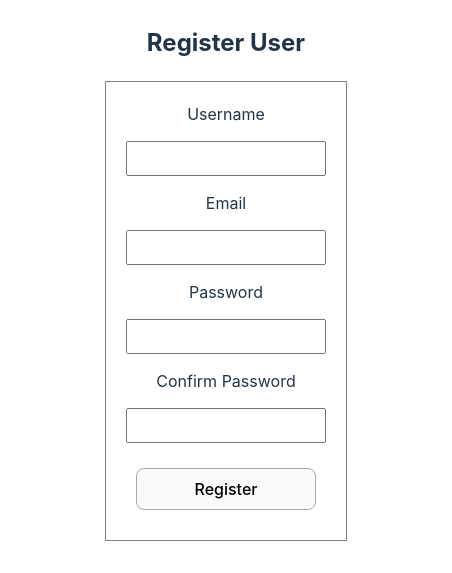
Test case: Register Component › shows error when username or email is already taken
Type "testuser" into the field labelled "Username" at (226, 159), box [126,141,326,176]
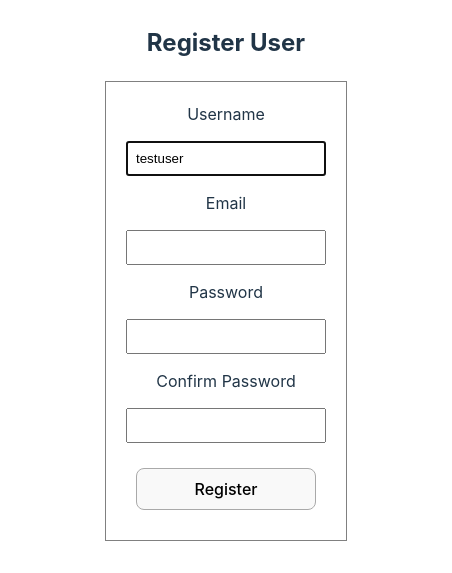
Type "test@example.com" into the field labelled "Email" at (226, 248), box [126,230,326,265]
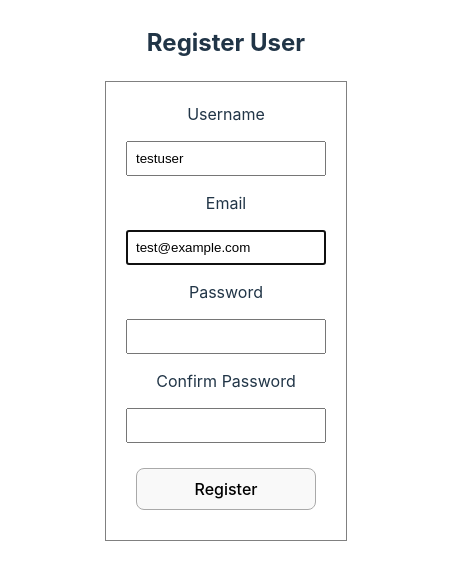
Type "password123" into the password field labelled "Password" at (226, 337), box [126,319,326,354]
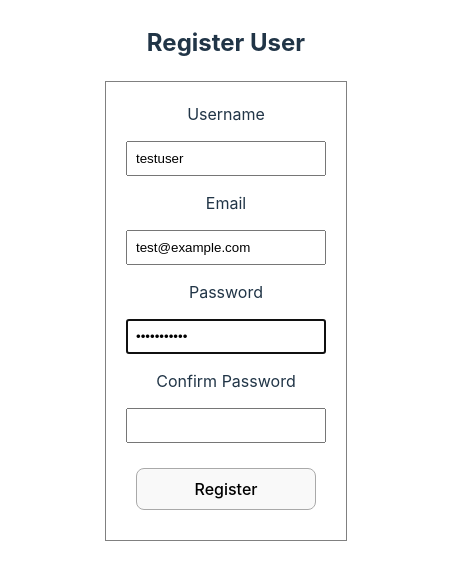
Type "password123" into the password field labelled "Confirm Password" at (226, 426), box [126,408,326,443]
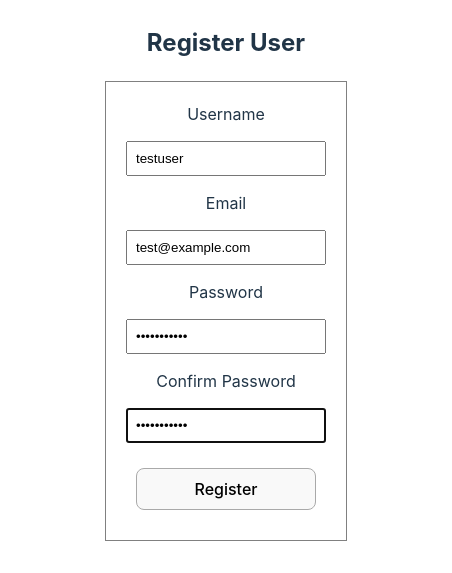
Click the button "Register" at (226, 489), box [136,468,316,510]
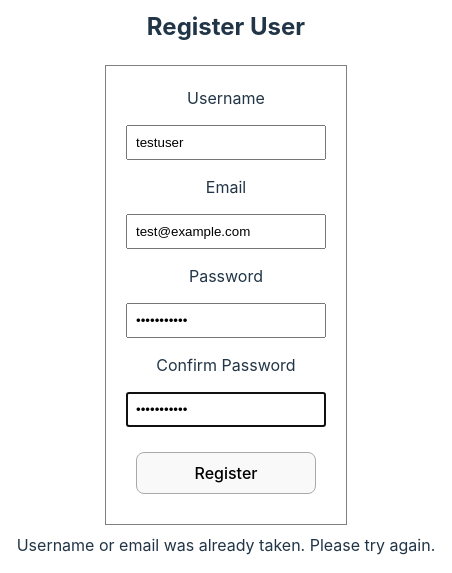
Now the text "Username or email was already taken. Please try again." is shown, box [17,532,435,556]
